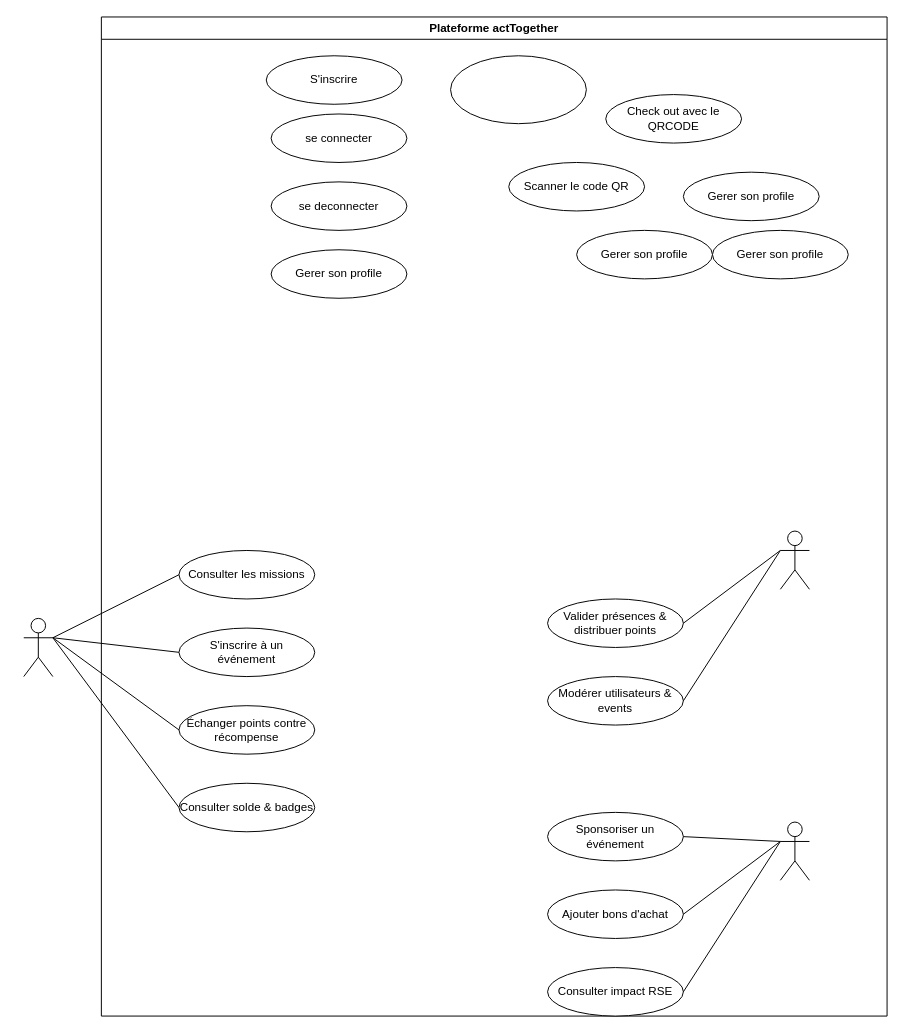
Image size: 904x1033. Some labels were removed from this diagram. Here are the shapes that lost their labels. From the top down, the centre of each, then its label:
At [518,89]: "Check in avec le QRCODE".
At [794,559]: "Administrateur".
At [38,647]: "Étudiant".
At [794,850]: "Partenaire (Entreprise)".
